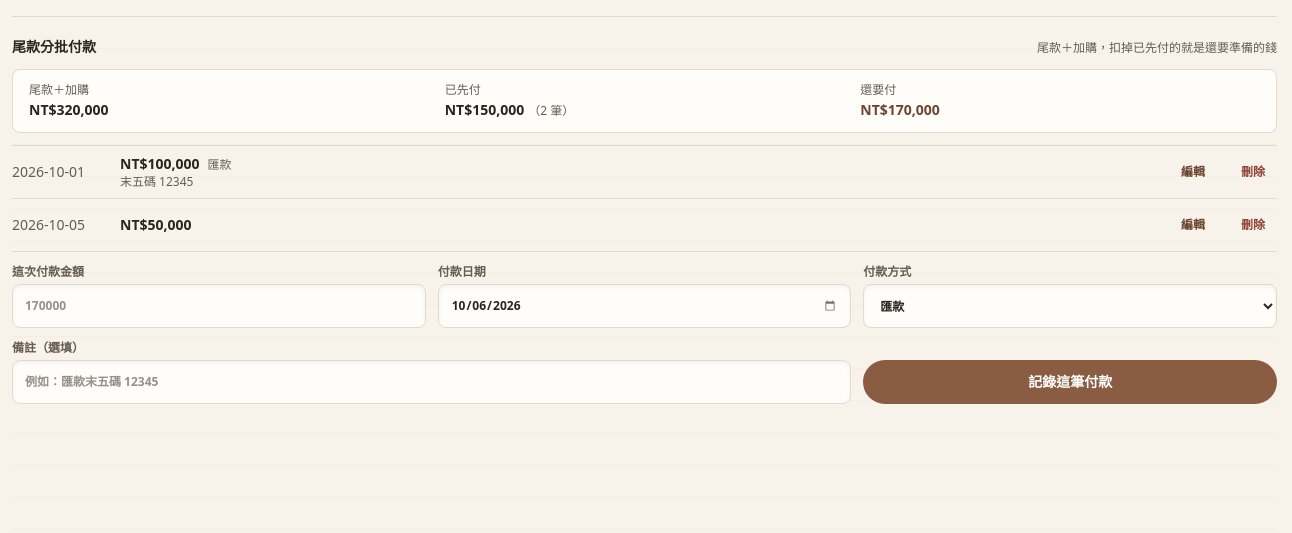
Test: BudgetPayments › 可以編輯既有付款，帶原本的值與項目版本送出
The image size is (1292, 533).
Click the button with aria-label "編輯 2026-10-01 的付款紀錄" at (1193, 172), box [1169,154,1217,190]
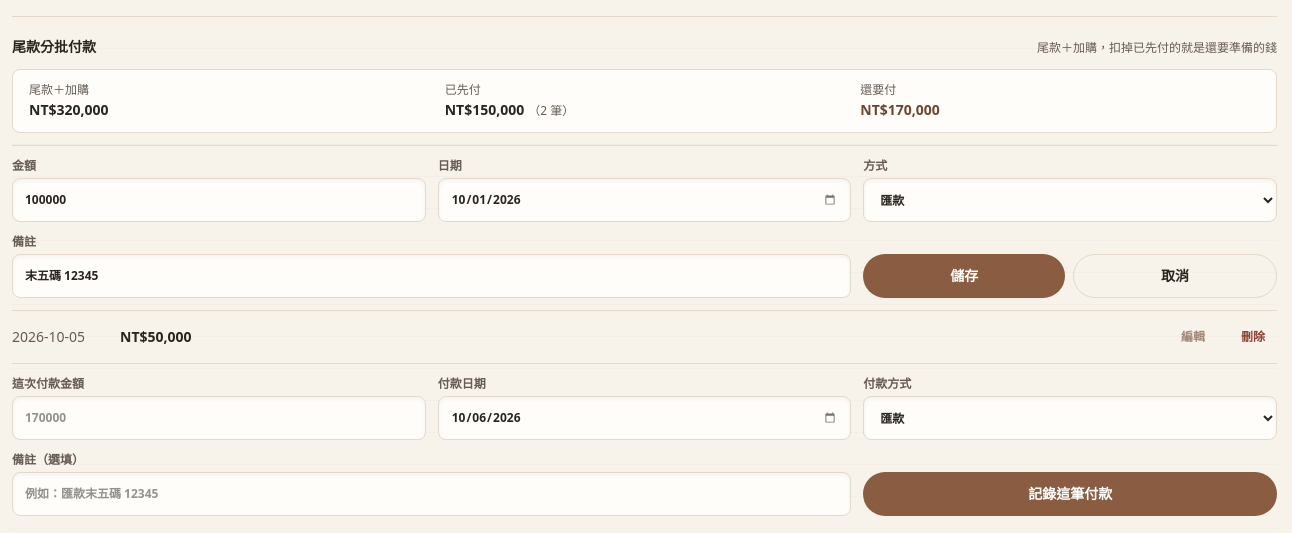
expect the field labelled "金額" holds "100000": met
expect the date field labelled "日期" holds "2026-10-01": met, box [438,178,851,222]
expect the dropdown labelled "方式" shows "匯款": met, box [863,178,1277,222]
Replace the text in the field labelled "金額" with "110000" at (219, 200), box [12,178,426,222]
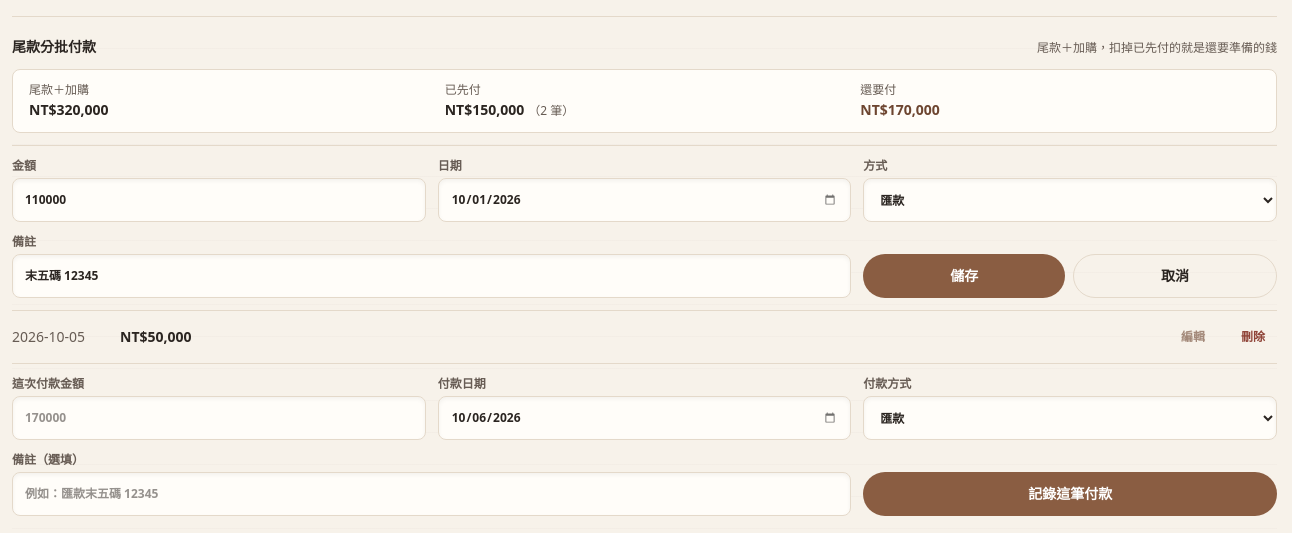
Click the button "儲存" at (964, 276), box [863,254,1065,298]
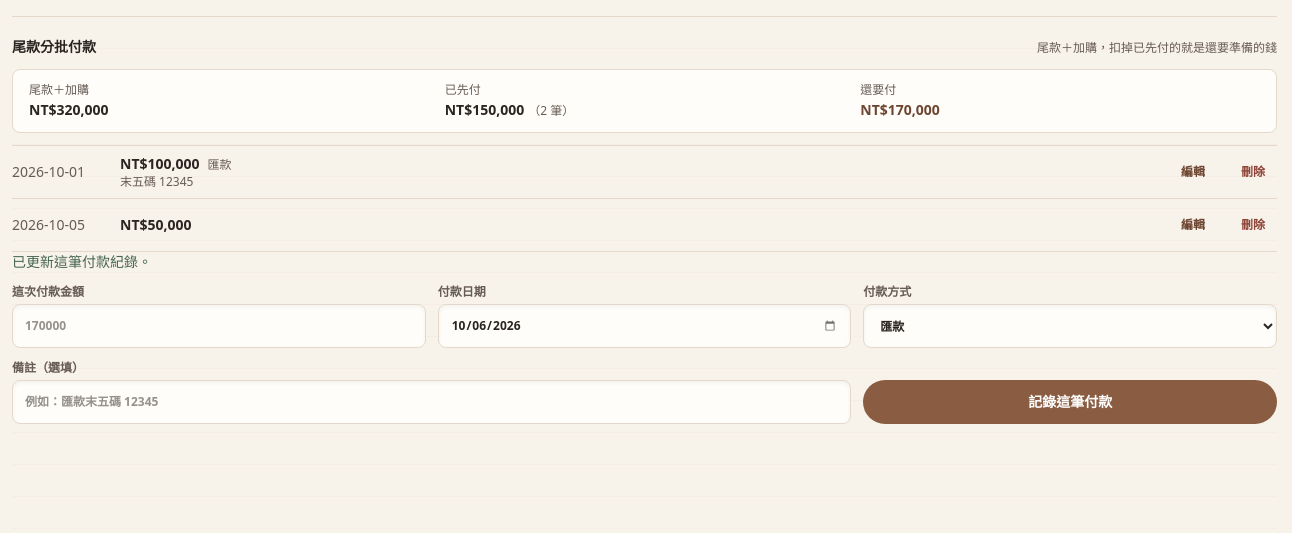
expect the form "編輯付款：2026-10-01" is gone: met
expect the text "已更新這筆付款紀錄。" is shown: met, box [12,252,152,271]
